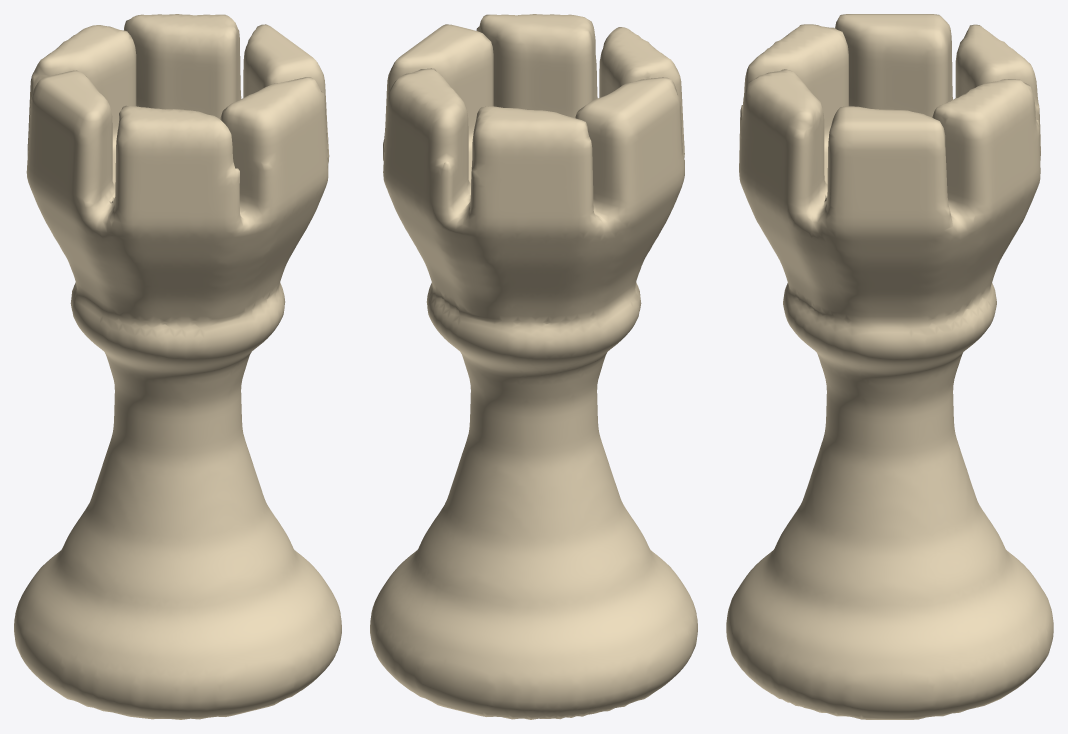
The model's file is KFB_ChessM_rook_light.r1.glb.
The picture shows the model from 3 angles, left to right: view 1: azimuth 30°, elevation 25°; view 2: azimuth 150°, elevation 25°; view 3: azimuth 270°, elevation 25°; orthographic projection.
Visible parts, largest first — view 1: KFB_ChessM_rook_light; view 2: KFB_ChessM_rook_light; view 3: KFB_ChessM_rook_light.
Part boxes in pixels (<box>): KFB_ChessM_rook_light: <box>14,14,341,719</box>; KFB_ChessM_rook_light: <box>370,14,697,719</box>; KFB_ChessM_rook_light: <box>726,14,1053,719</box>.
Bounding box in the file's own units: 1.67 × 3.32 × 1.67.
